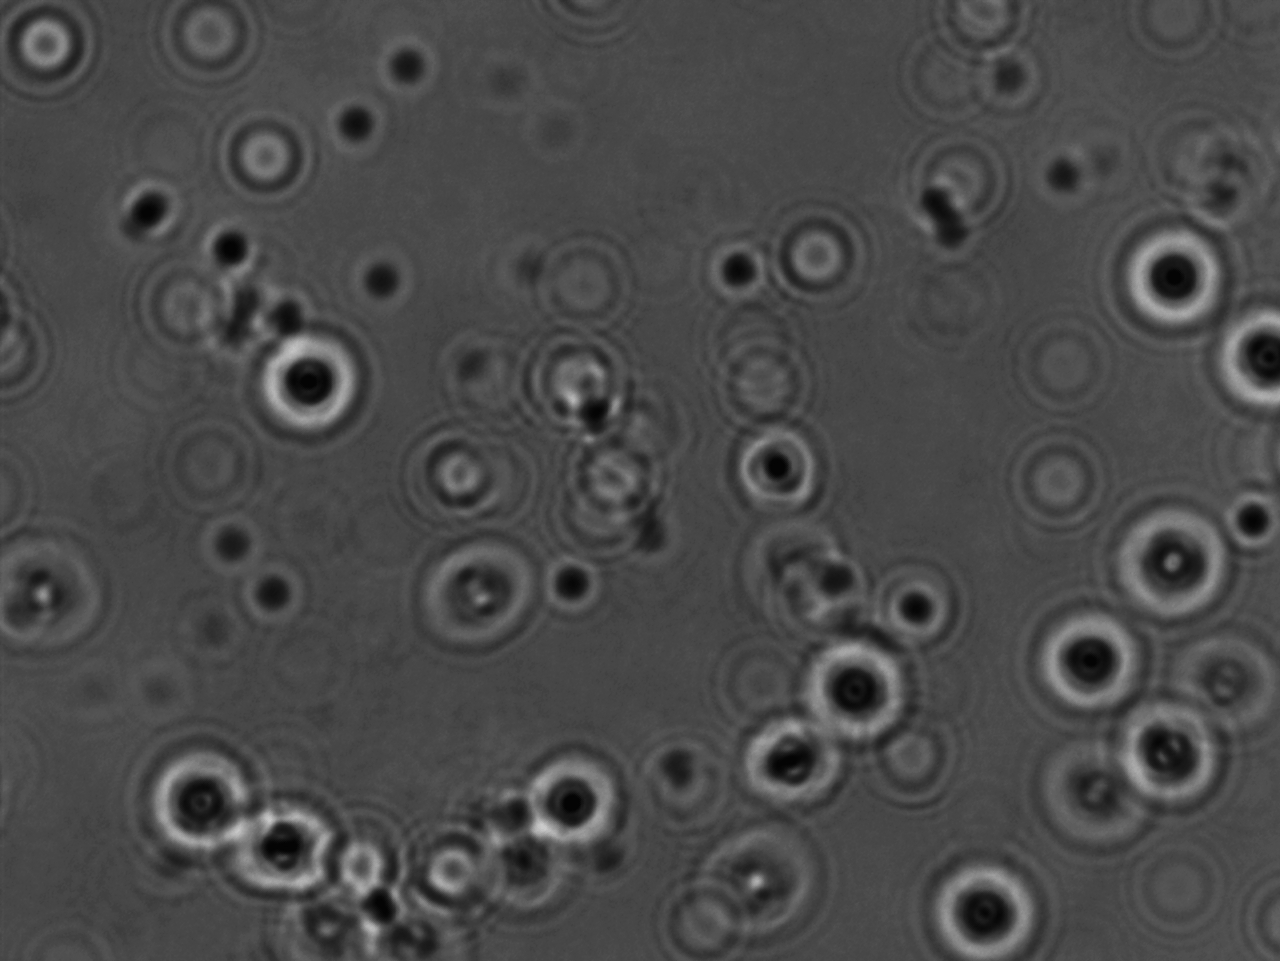depth:-16: (1091, 488, 1238, 636), (240, 308, 375, 460), (1110, 683, 1247, 822), (512, 738, 651, 873), (1098, 207, 1236, 338), (789, 621, 917, 760), (910, 848, 1062, 961), (132, 737, 261, 867), (209, 788, 345, 910), (1030, 597, 1159, 719), (730, 696, 852, 812), (1202, 293, 1280, 413)
